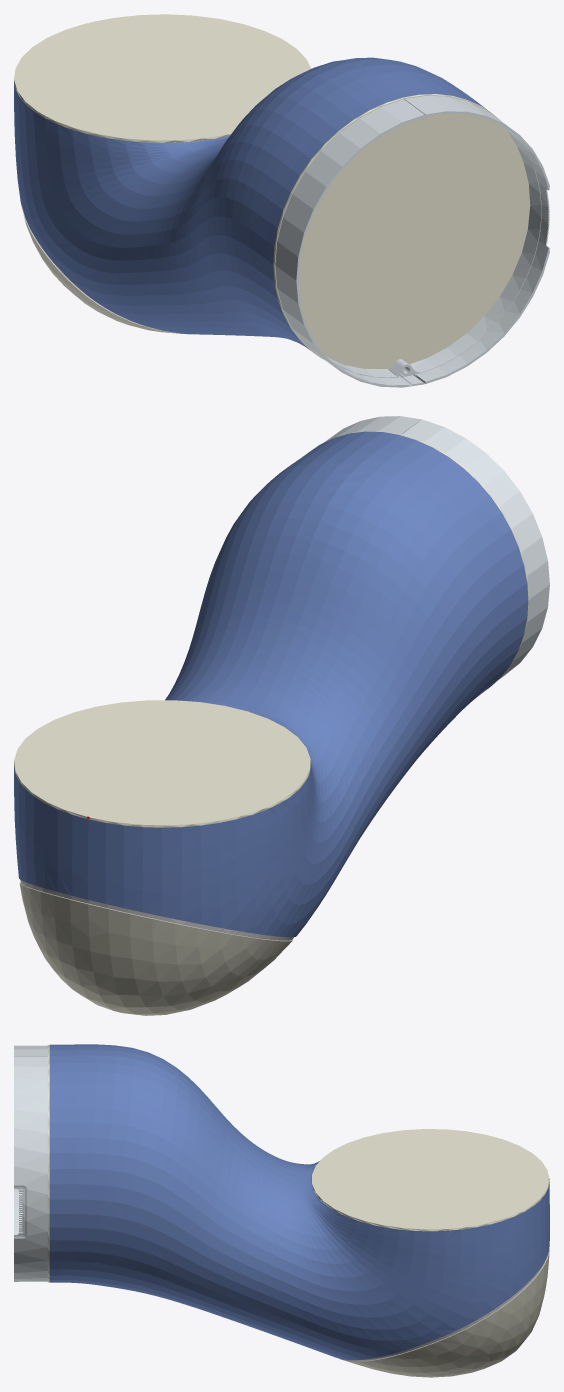
The model's file is left_arm2.dae.
The picture shows the model from 3 angles, top to bottom: view 1: azimuth 30°, elevation 25°; view 2: azimuth 150°, elevation 25°; view 3: azimuth 270°, elevation 25°; orthographic projection. The views are drawn at different scales.
Visible parts, largest first — view 1: left-lwr-3-link23-45_iv_MatrixTransform_Group__Geometry_5, left-lwr-3-link23-45_iv_MatrixTransform_Group__Geometry_0, left-lwr-3-link23-45_iv_MatrixTransform_Group__Geometry_3, left-lwr-3-link23-45_iv_MatrixTransform_Group__Geometry_1; view 2: left-lwr-3-link23-45_iv_MatrixTransform_Group__Geometry_0, left-lwr-3-link23-45_iv_MatrixTransform_Group__Geometry_5, left-lwr-3-link23-45_iv_MatrixTransform_Group__Geometry_1, left-lwr-3-link23-45_iv_MatrixTransform_Group__Geometry_3, left-lwr-3-link23-45_iv_MatrixTransform_Group__Geometry_2; view 3: left-lwr-3-link23-45_iv_MatrixTransform_Group__Geometry_0, left-lwr-3-link23-45_iv_MatrixTransform_Group__Geometry_5, left-lwr-3-link23-45_iv_MatrixTransform_Group__Geometry_3, left-lwr-3-link23-45_iv_MatrixTransform_Group__Geometry_1, left-lwr-3-link23-45_iv_MatrixTransform_Group__Geometry_2.
Boxes of the visible parts, x1,y1,x2,y2 form: left-lwr-3-link23-45_iv_MatrixTransform_Group__Geometry_5: (14, 14, 530, 369); left-lwr-3-link23-45_iv_MatrixTransform_Group__Geometry_0: (14, 57, 486, 349); left-lwr-3-link23-45_iv_MatrixTransform_Group__Geometry_3: (275, 95, 549, 387); left-lwr-3-link23-45_iv_MatrixTransform_Group__Geometry_1: (24, 216, 186, 334); left-lwr-3-link23-45_iv_MatrixTransform_Group__Geometry_0: (14, 431, 528, 937); left-lwr-3-link23-45_iv_MatrixTransform_Group__Geometry_5: (14, 430, 529, 827); left-lwr-3-link23-45_iv_MatrixTransform_Group__Geometry_1: (19, 884, 291, 1015); left-lwr-3-link23-45_iv_MatrixTransform_Group__Geometry_3: (324, 416, 549, 678); left-lwr-3-link23-45_iv_MatrixTransform_Group__Geometry_2: (19, 880, 293, 941); left-lwr-3-link23-45_iv_MatrixTransform_Group__Geometry_0: (49, 1044, 549, 1360); left-lwr-3-link23-45_iv_MatrixTransform_Group__Geometry_5: (47, 1045, 549, 1282); left-lwr-3-link23-45_iv_MatrixTransform_Group__Geometry_3: (14, 1045, 47, 1281); left-lwr-3-link23-45_iv_MatrixTransform_Group__Geometry_1: (343, 1250, 549, 1377); left-lwr-3-link23-45_iv_MatrixTransform_Group__Geometry_2: (339, 1249, 549, 1361).
Bounding box in the file's own units: 0.1194 × 0.268 × 0.1717.
